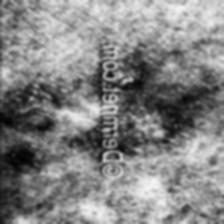Unclassified: (0, 78, 95, 175), (119, 56, 194, 154)
